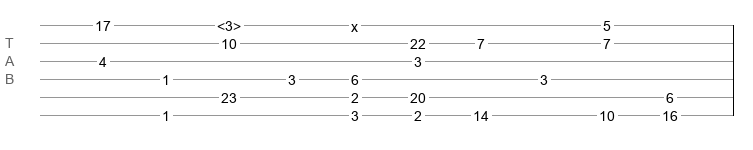1: (162, 108, 170, 118), (162, 72, 170, 82)
10: (221, 36, 237, 46), (599, 108, 615, 118)
14: (473, 108, 489, 118)
16: (662, 108, 678, 118)
17: (95, 18, 111, 28)
2: (351, 90, 359, 100), (414, 108, 422, 118)
20: (410, 90, 426, 100)
22: (410, 36, 426, 46)
23: (221, 90, 237, 100)
3: (288, 72, 296, 82), (351, 108, 359, 118), (414, 54, 422, 64), (540, 72, 548, 82)
4: (99, 54, 107, 64)
5: (603, 18, 611, 28)
6: (351, 72, 359, 82), (666, 90, 674, 100)
7: (477, 36, 485, 46), (603, 36, 611, 46)
harmonic: (217, 18, 241, 28)
x: (351, 19, 358, 27)
